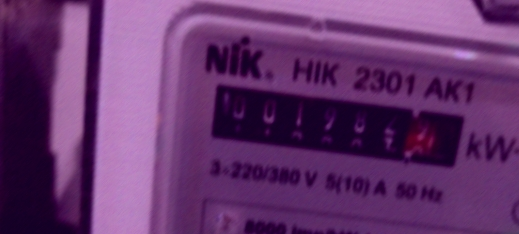0: (259, 95, 278, 125), (229, 91, 247, 121)
1: (291, 98, 305, 127)
2: (381, 106, 400, 136)
8: (351, 105, 368, 134)
9: (411, 114, 433, 143), (320, 102, 337, 132)
screen: (192, 68, 479, 182)
